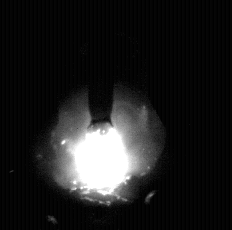arame: (89, 0, 114, 132)
poca: (48, 0, 167, 230)
